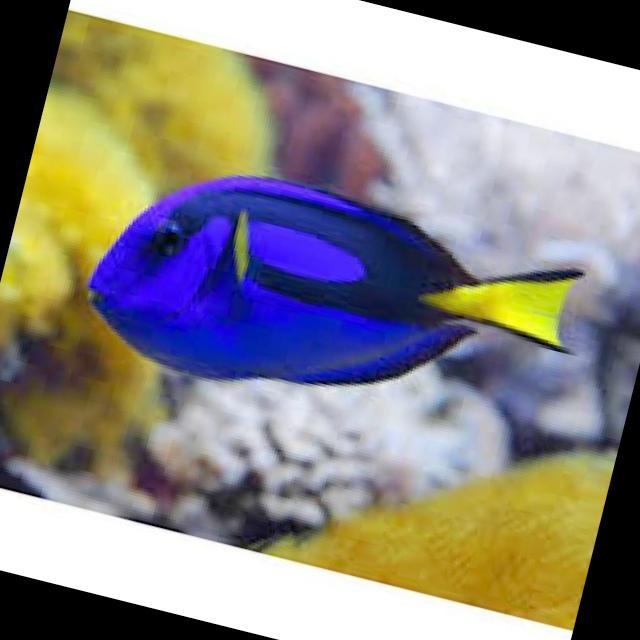TangFish: (64, 132, 600, 469)
